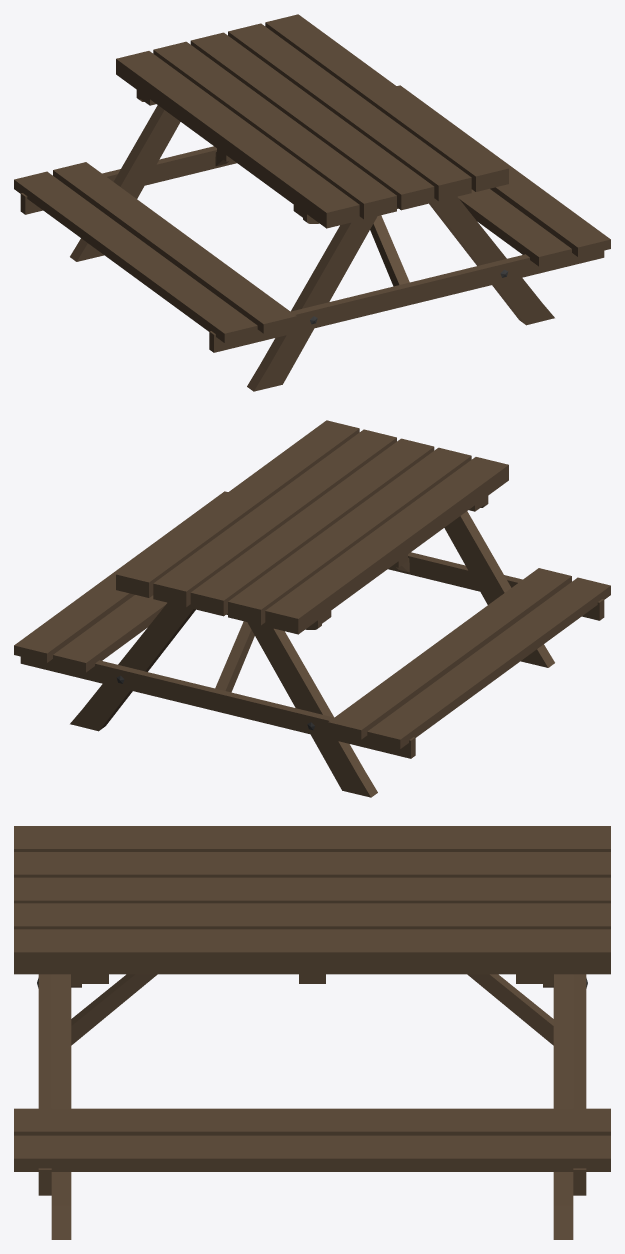
File: ParkTable.fbx
The picture shows the model from 3 angles, top to bottom: view 1: azimuth 30°, elevation 25°; view 2: azimuth 150°, elevation 25°; view 3: azimuth 270°, elevation 25°; orthographic projection. The views are drawn at different scales.
Parts seen in each view (by area): view 1: Cube.004, Cube.018, Cube.019, Cube.001, Cube.002, Cube.003, Cube.005, Cube.015, Cube.013, Cube.016, Cube.014, Cube.017 (+3 smaller); view 2: Cube.004, Cube.018, Cube.019, Cube.001, Cube.002, Cube.003, Cube.005, Cube.012, Cube.010, Cube.016, Cube.011, Cube.017 (+3 smaller); view 3: Cube.005, Cube.016, Cube.017, Cube.001, Cube.003, Cube.002, Cube.004, Cube.011, Cube.014, Cube.012, Cube.015, Cube.020 (+1 smaller).
Boxes of the visible parts, x1,y1,x2,y2 form: Cube.004: (116,51,359,228); Cube.018: (14,171,257,342); Cube.019: (53,162,296,333); Cube.001: (190,32,434,210); Cube.002: (153,41,396,219); Cube.003: (228,23,471,201); Cube.005: (265,14,508,191); Cube.015: (209,250,604,352); Cube.013: (247,216,377,391); Cube.016: (397,85,610,256); Cube.014: (429,196,554,325); Cube.017: (458,189,571,266); Cube.004: (265,457,508,634); Cube.018: (367,577,610,748); Cube.019: (328,568,571,739); Cube.001: (190,438,434,616); Cube.002: (228,447,471,625); Cube.003: (153,429,396,607); Cube.005: (116,420,359,597); Cube.012: (20,656,415,758); Cube.010: (247,622,377,797); Cube.016: (14,491,227,662); Cube.011: (70,602,195,731); Cube.017: (53,595,166,672); Cube.005: (14,929,610,974); Cube.016: (14,1135,610,1171); Cube.017: (14,1108,610,1135); Cube.001: (14,877,610,903); Cube.003: (14,903,610,929); Cube.002: (14,852,610,877); Cube.004: (14,826,610,851); Cube.011: (553,974,573,1239); Cube.014: (51,974,71,1239); Cube.012: (573,974,586,1195); Cube.015: (38,974,51,1195); Cube.020: (467,974,553,1045).
Bounding box in the file's own units: 471 × 201 × 440.
